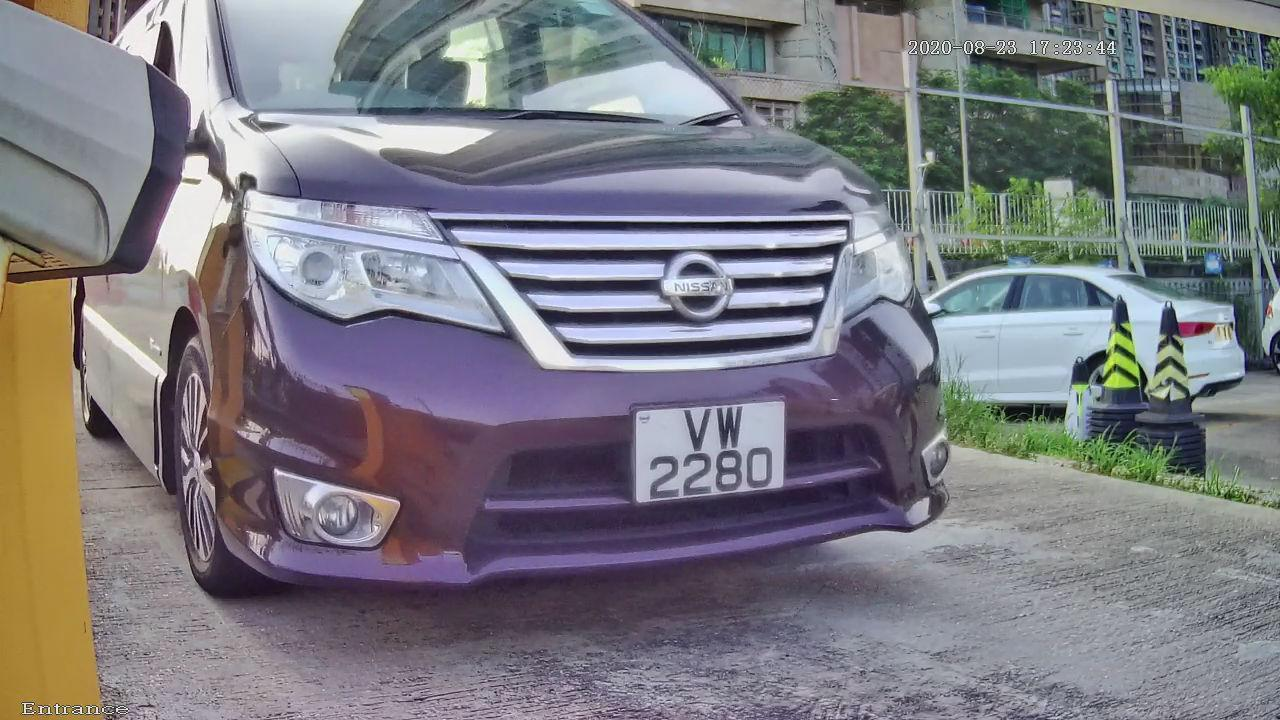Car: (69, 7, 1046, 634)
License Plate: (612, 386, 795, 515)
